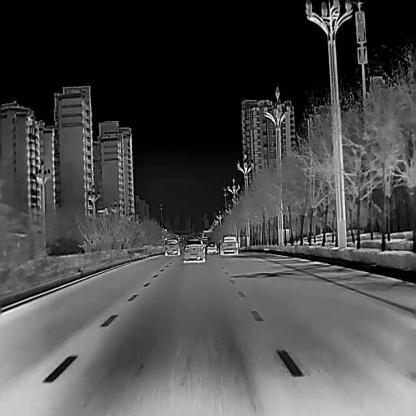car: (182, 238, 205, 263), (219, 234, 238, 255), (163, 237, 180, 256), (206, 241, 217, 254)
